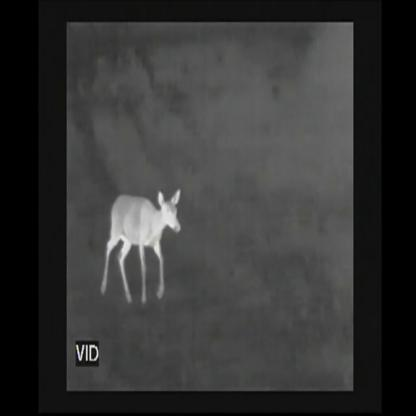rehkitze: (99, 179, 182, 308)
